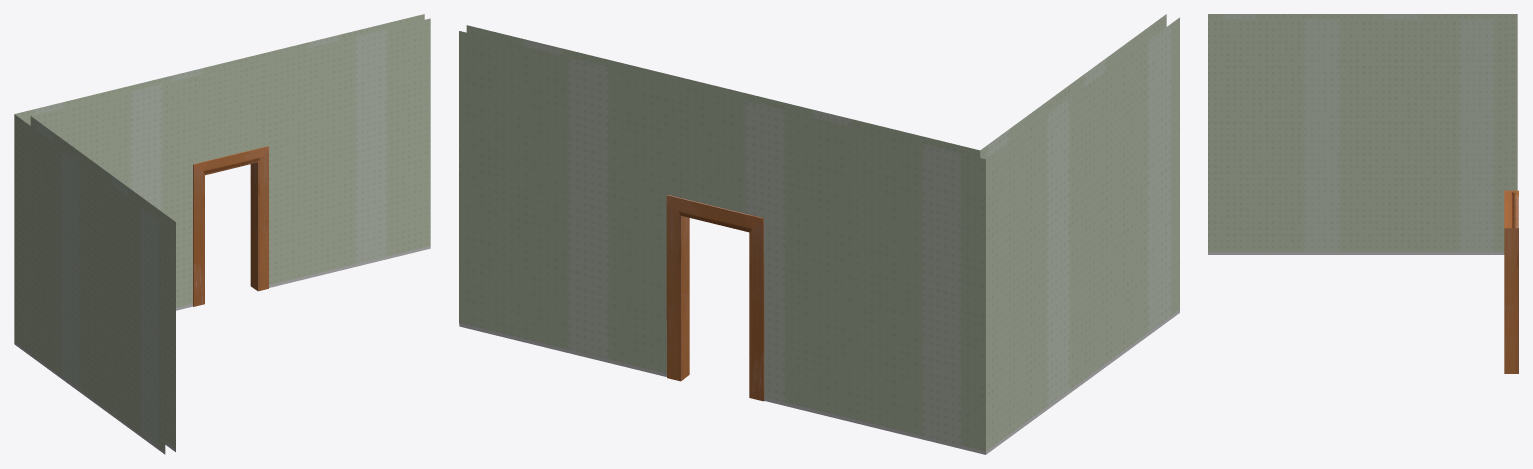
3 views of the same model, side by side, from view 1: azimuth 30°, elevation 25°; view 2: azimuth 150°, elevation 25°; view 3: azimuth 270°, elevation 25° (orthographic). The views are drawn at different scales.
Visible parts, largest first — view 1: Mesh (50); view 2: Mesh (50); view 3: Mesh (50).
Part boxes in pixels (x1=…): Mesh (50): x1=14, y1=14, x2=430, y2=454; Mesh (50): x1=459, y1=14, x2=1179, y2=454; Mesh (50): x1=1208, y1=14, x2=1518, y2=373.
Bounding box in the file's own units: 649 × 349 × 416.
